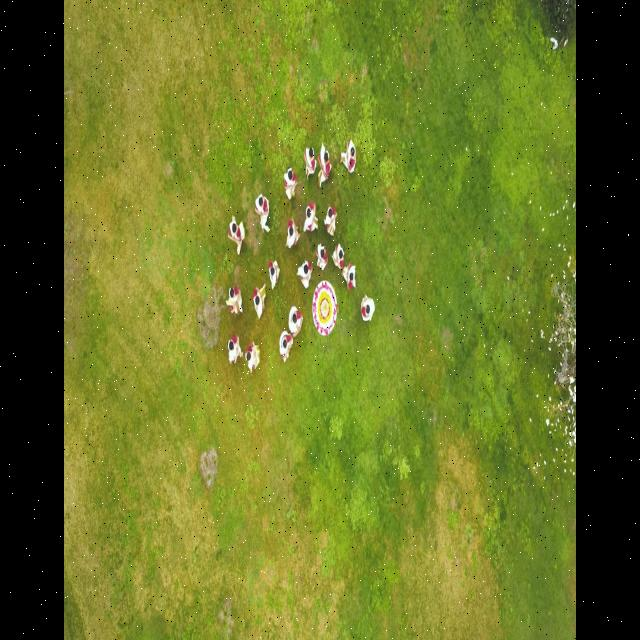humans: (252, 187, 272, 241), (336, 129, 358, 177), (224, 279, 246, 321), (225, 212, 247, 253), (321, 196, 341, 238), (358, 286, 376, 332), (316, 141, 333, 189), (225, 328, 244, 370), (250, 280, 268, 324), (313, 240, 329, 287), (280, 160, 296, 207), (340, 254, 358, 295), (244, 336, 260, 381), (282, 218, 300, 256), (302, 199, 320, 235), (295, 261, 317, 289), (332, 236, 346, 275), (276, 331, 295, 359), (288, 301, 305, 332), (268, 257, 282, 294), (304, 141, 316, 183)
